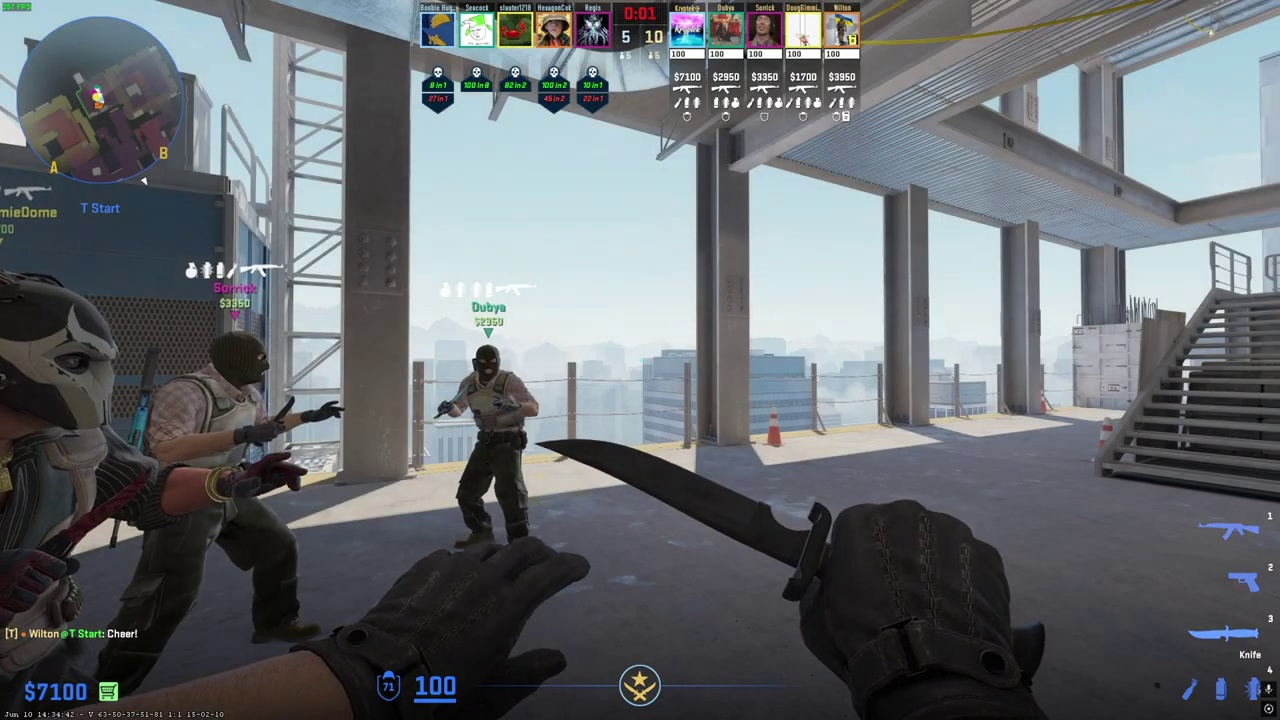Terrorist: (122, 330, 308, 682), (0, 272, 143, 720), (451, 344, 531, 547)
